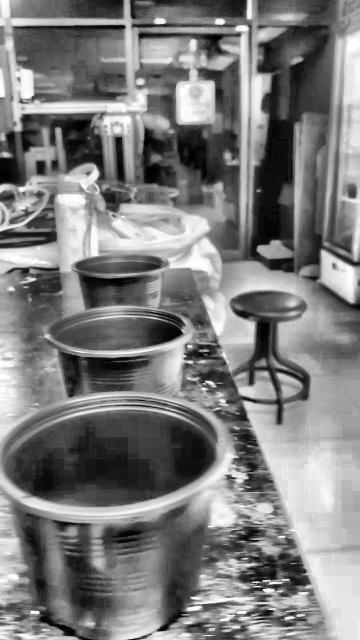pot: (0, 392, 230, 639), (1, 308, 219, 515), (74, 252, 169, 308)
